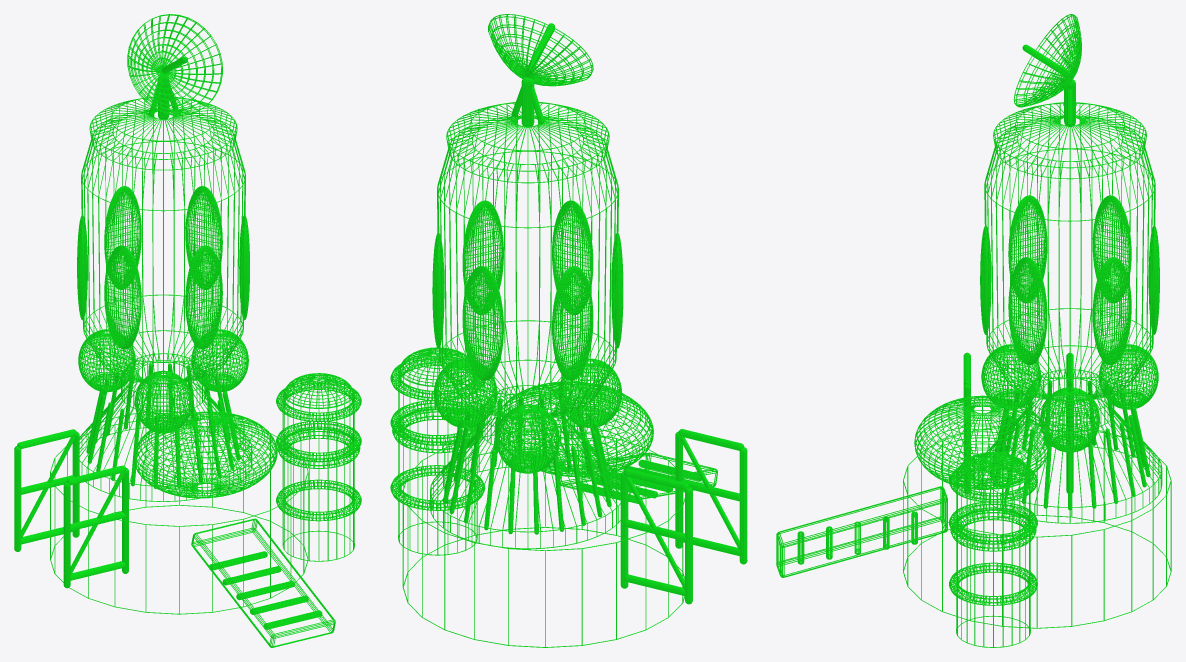
The model's file is ore-teleporter-wireframe.glb.
3 renders of one model, left to right at view 1: azimuth 30°, elevation 25°; view 2: azimuth 150°, elevation 25°; view 3: azimuth 270°, elevation 25°, orthographic. The views are drawn at different scales.
Visible parts, largest first — view 1: chassis technical wire, data-throughput-supercomputer technical wire, atomic-scan-generators technical wire, long-range-transceiver technical wire; view 2: chassis technical wire, atomic-scan-generators technical wire, data-throughput-supercomputer technical wire, long-range-transceiver technical wire; view 3: chassis technical wire, data-throughput-supercomputer technical wire, atomic-scan-generators technical wire, long-range-transceiver technical wire.
Boxes of the visible parts, x1,y1,x2,y2 form: chassis technical wire: (14, 96, 335, 647); data-throughput-supercomputer technical wire: (276, 373, 361, 561); atomic-scan-generators technical wire: (78, 329, 248, 433); long-range-transceiver technical wire: (127, 14, 222, 120); chassis technical wire: (402, 102, 747, 647); atomic-scan-generators technical wire: (433, 358, 622, 473); data-throughput-supercomputer technical wire: (390, 347, 485, 555); long-range-transceiver technical wire: (488, 14, 593, 127); chassis technical wire: (776, 102, 1171, 628); data-throughput-supercomputer technical wire: (949, 452, 1037, 647); atomic-scan-generators technical wire: (981, 344, 1158, 452); long-range-transceiver technical wire: (1013, 14, 1081, 126).
Size of the model in its own units: 1.67 by 2.78 by 1.81.
